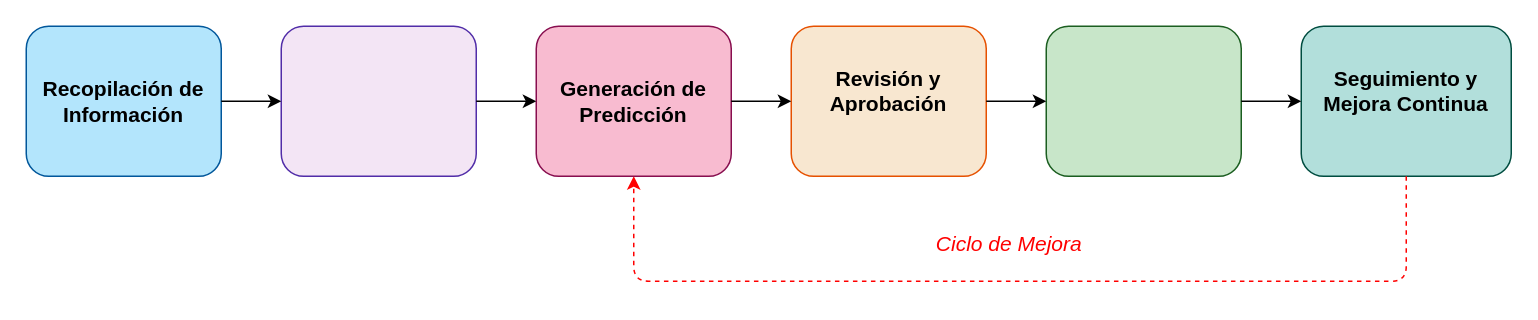
The diagram is 1538 pixels wide and 320 high, and some of its shapes have lost their labels. Here are the shapes that lost their labels. From the top down, the box of each, then its label:
(280, 25, 476, 176): Análisis y Validación
(1045, 25, 1241, 176): Difusión y Operación
